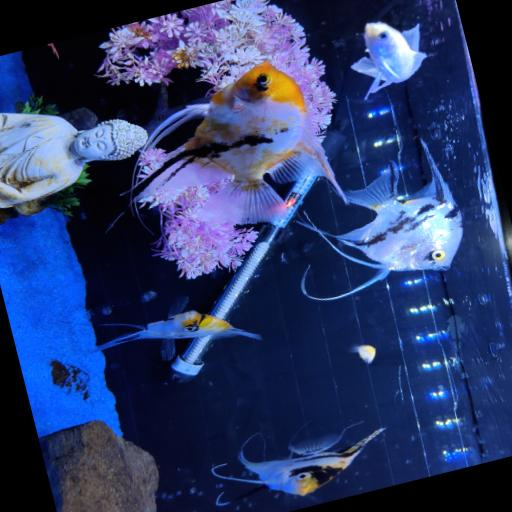Fish: (135, 62, 343, 223), (298, 139, 461, 299), (211, 427, 383, 496), (85, 297, 260, 359), (351, 22, 425, 98), (347, 344, 375, 363), (48, 43, 58, 58)
